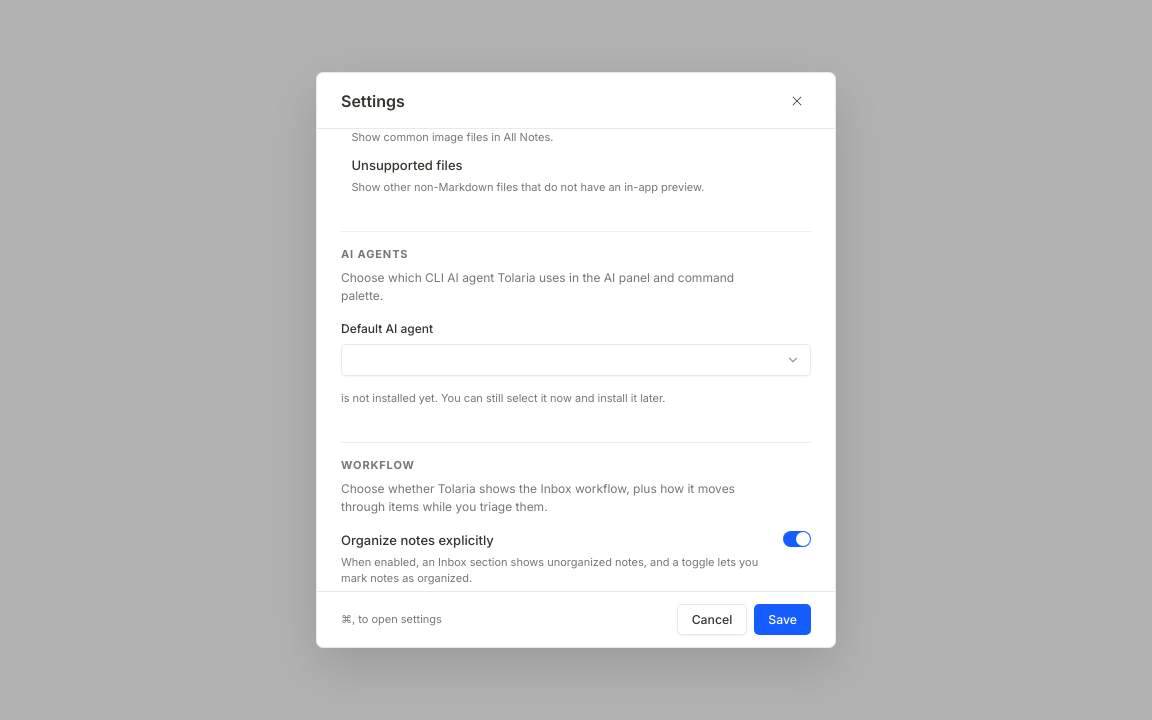
it: SettingsPanel › anchors the default agent dropdown with the popper strategy
This screenshot has width=1152, height=720.
(page scrolled)
Press the mouse on the dropdown with test id "settings-default-ai-agent": (792, 360) [341,344,811,376]
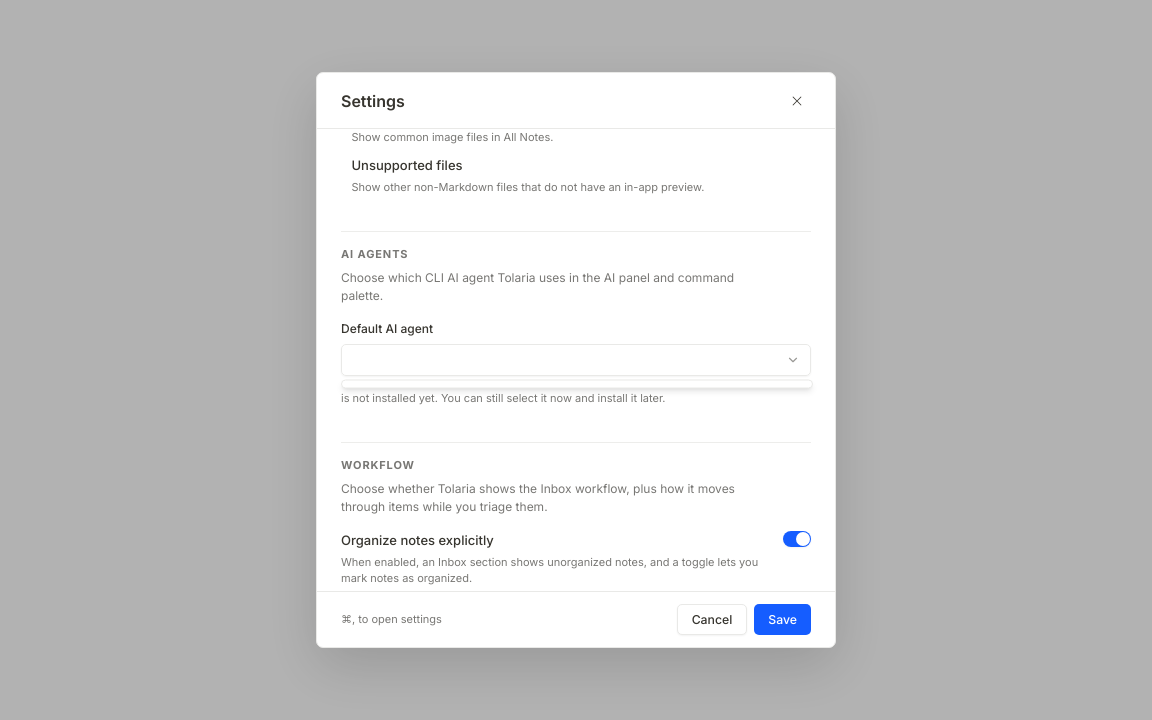
Expected: the list is shown, [341,380,813,388]
